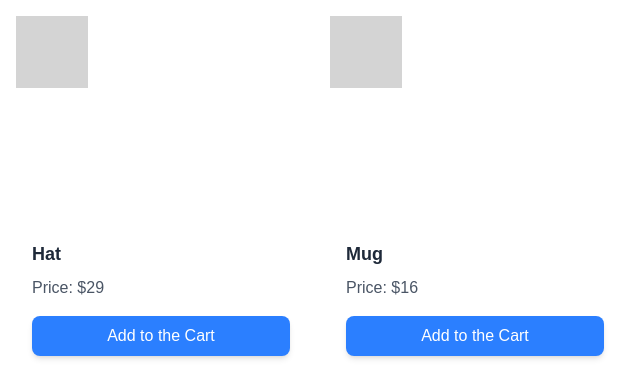
ProductList › switches button to "Remove" after adding a product to cart
Step 1. Click the button "Add to the Cart" below "29" → coordinates (161, 336), box [32, 316, 290, 356]
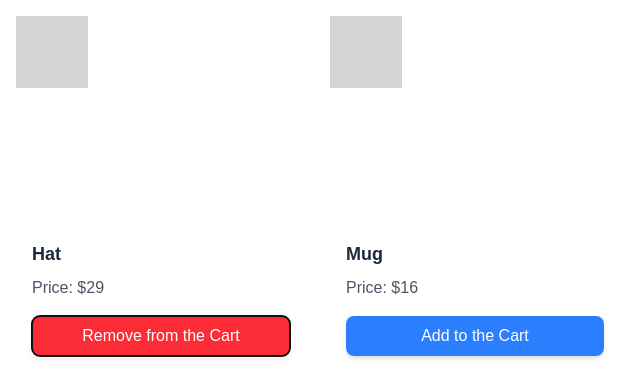
Expected: the button "Remove from the Cart" is shown, [32, 316, 290, 356]
